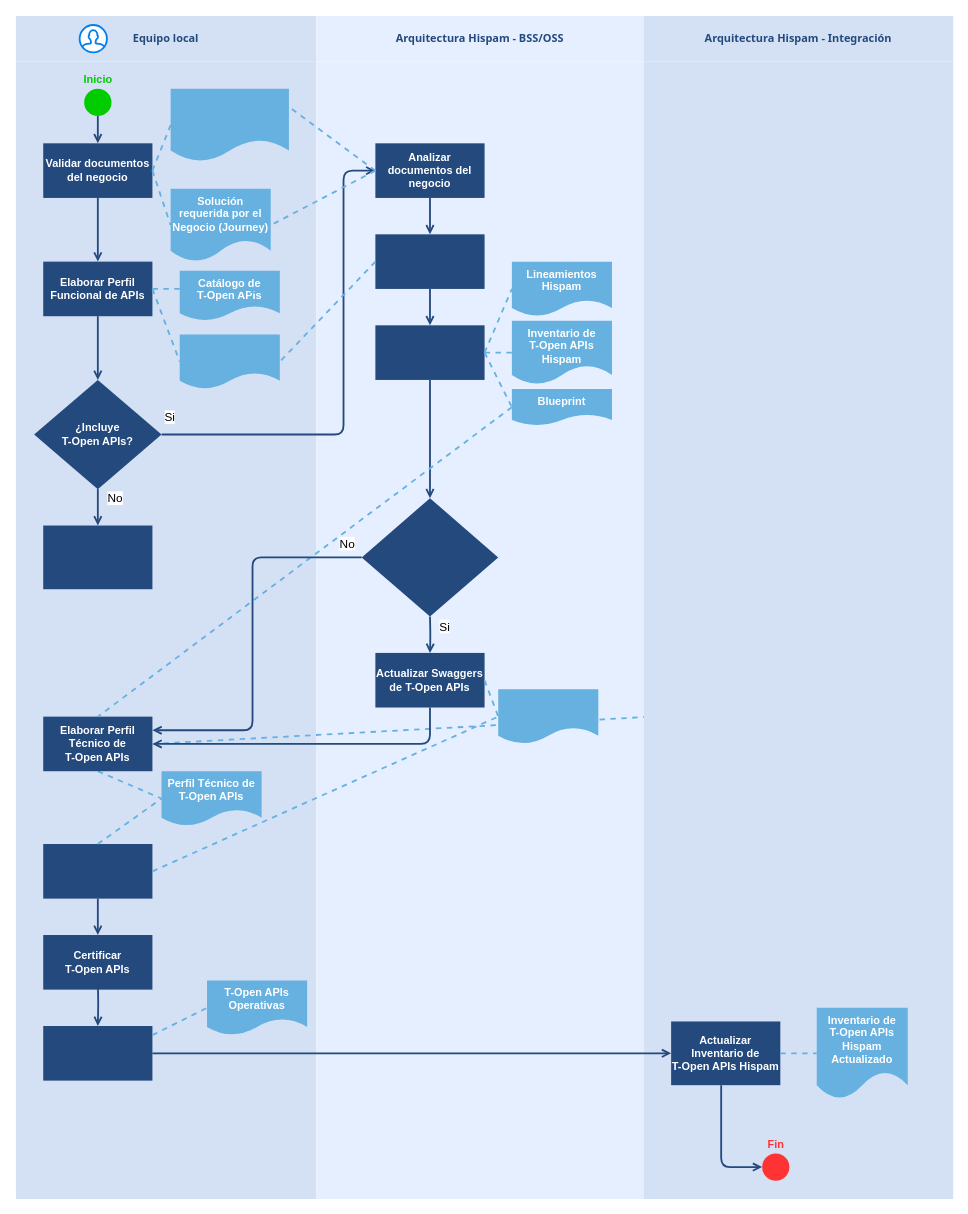
Some shapes in this 968 by 1214 pixel diagram are drawn without their labels. Each missing label, with the centre of its shape:
Analizar Perfil Funcional de APIs: pixel 429 261
Continuar flujo de gobierno de APIs local: pixel 97 557
Desarrollar T-Open APIs: pixel 97 871
Elaborar Blueprint: pixel 429 352
Perfil funcional de APIs: pixel 229 361
Realizar pase a producción de T-Open APIs: pixel 97 1053
Requisitos Funcionales y No Funcionales: pixel 229 124
Swagger de T-Open APIs: pixel 548 716
¿Se requiere cambios en estructura de T-Open APIS?: pixel 429 557
